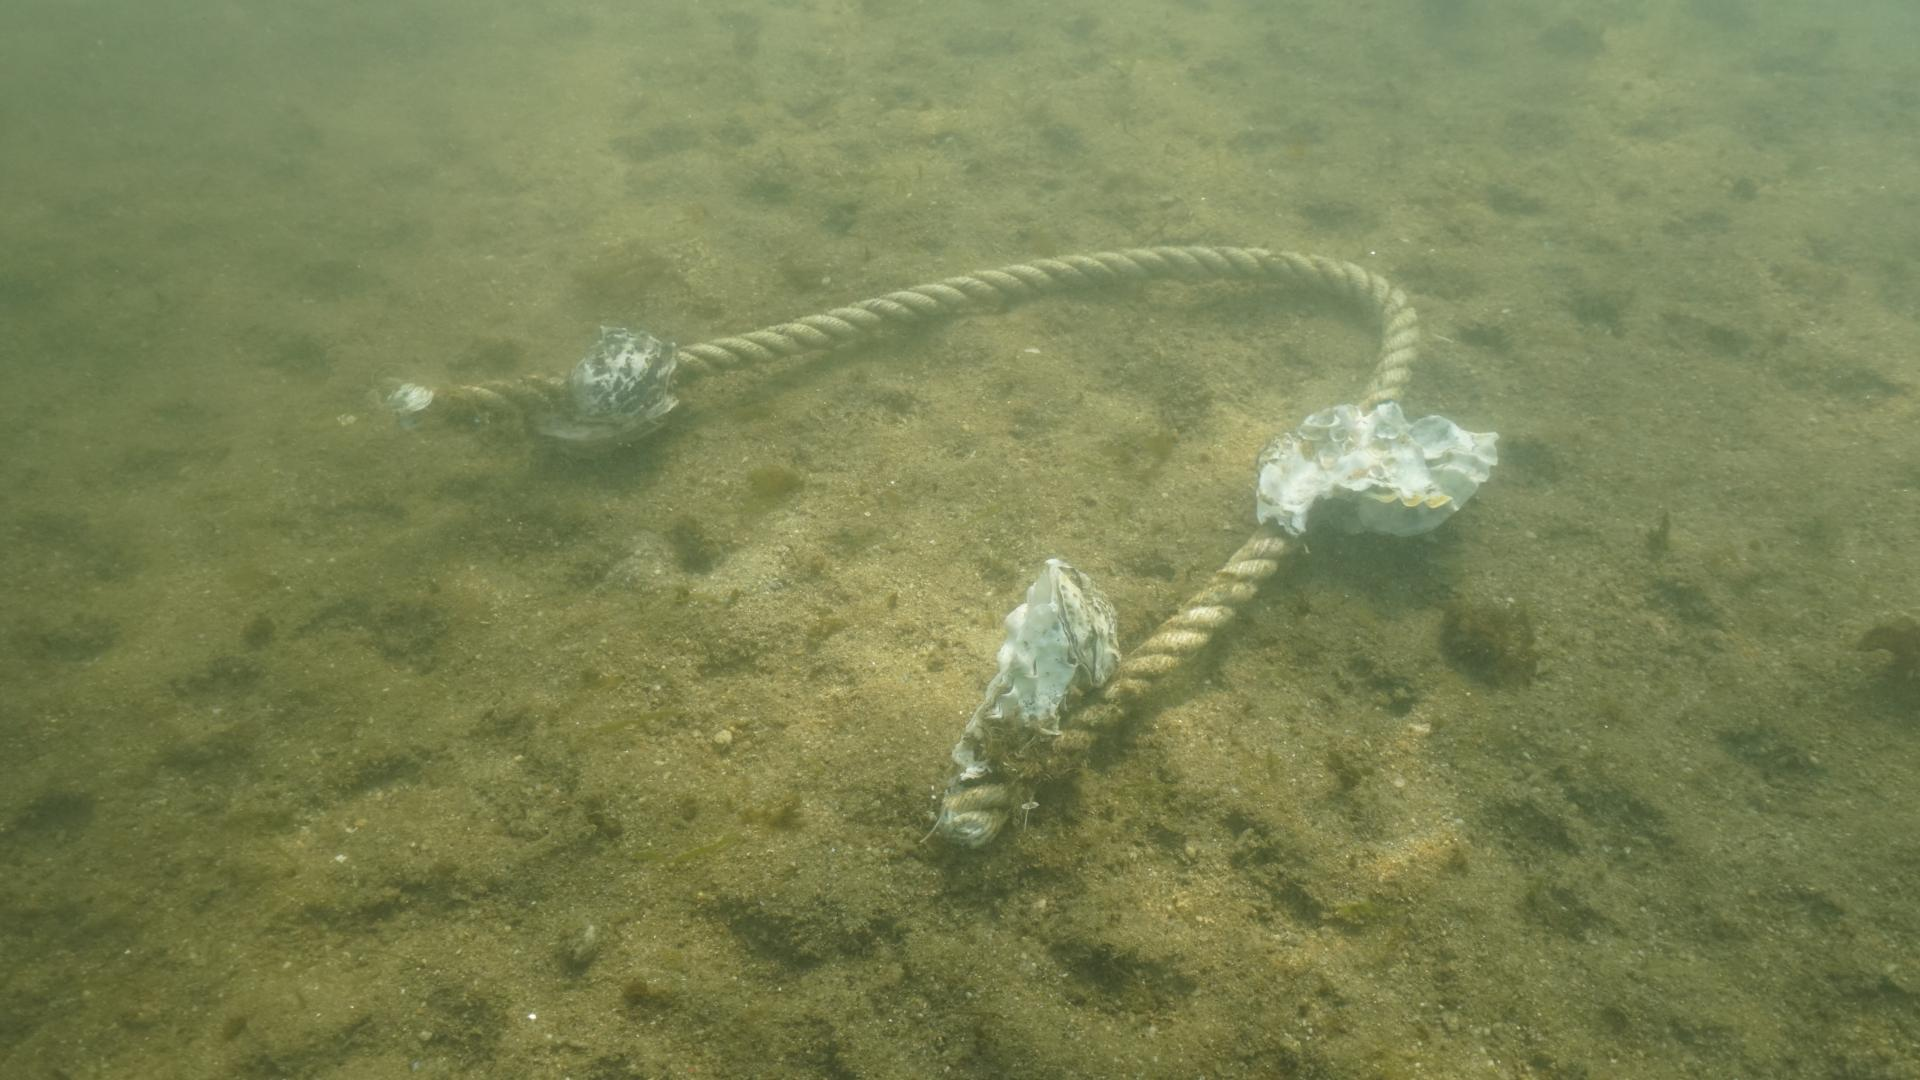rope: (402, 236, 1423, 851)
